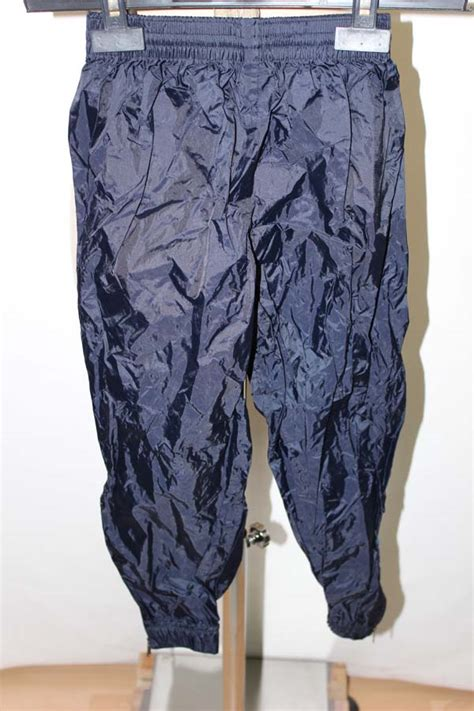nylon: (66, 8, 411, 653)
